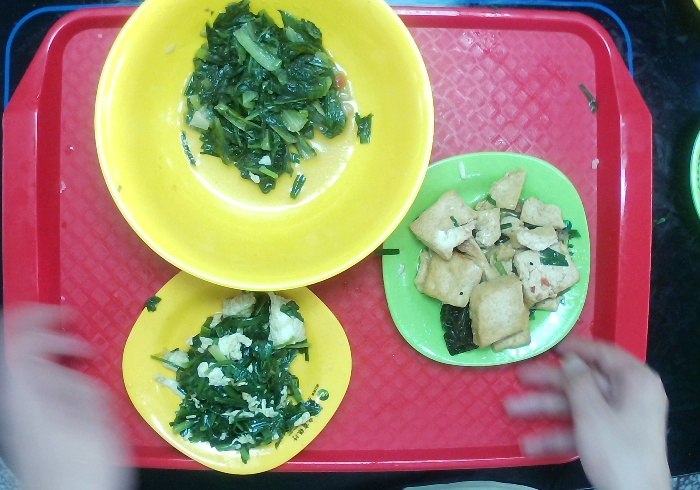YKMZ-Huang_Se_Fang_Die: (116, 267, 360, 475)
YKMZ-Huang_Se_Tang_Wan: (89, 1, 437, 298)
YKMZ-Lv_Se_Fang_Die: (371, 144, 596, 374)
